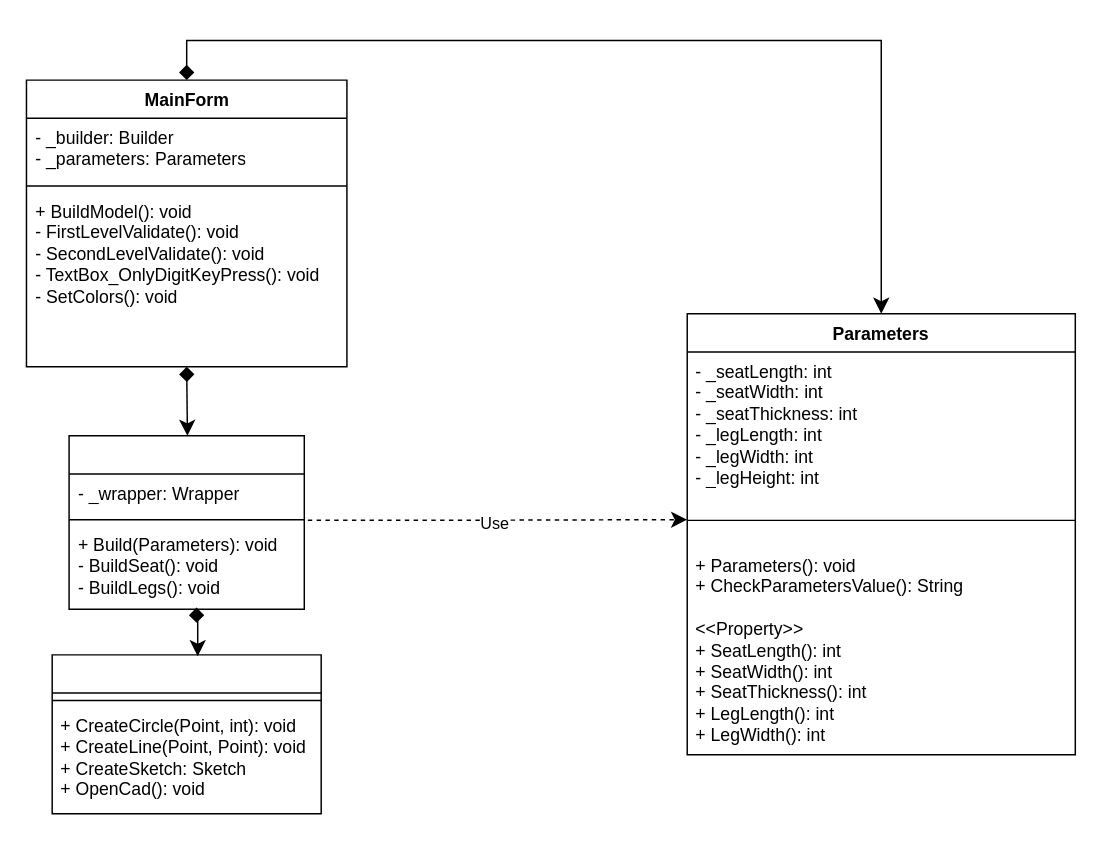
This 1101x844 diagram has some shape labels left out. Each missing label, with the box of its shape:
Builder: (68, 434, 304, 609)
Wrapper: (51, 653, 321, 814)
